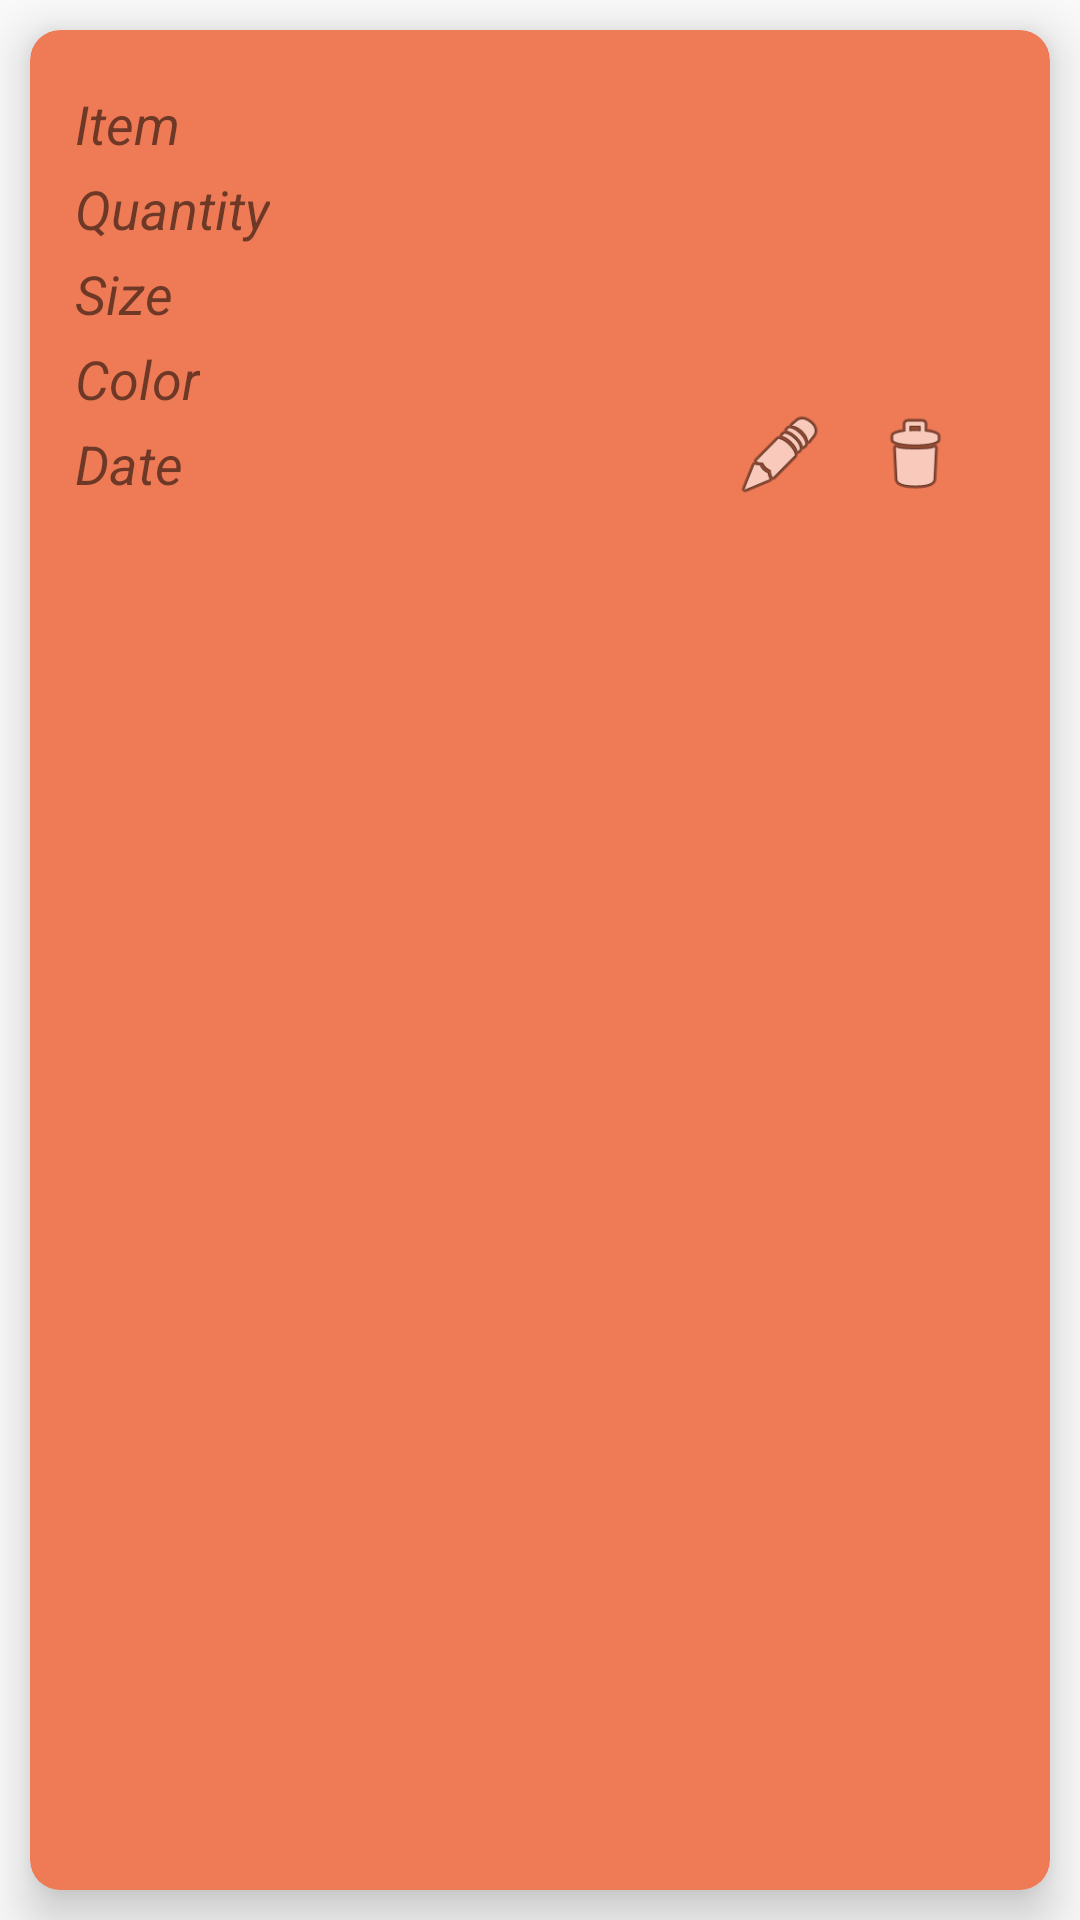

Icon click points for this 1080×1920 phone screenshot, format (x,y):
delete: (915,453)
edit: (780,454)
